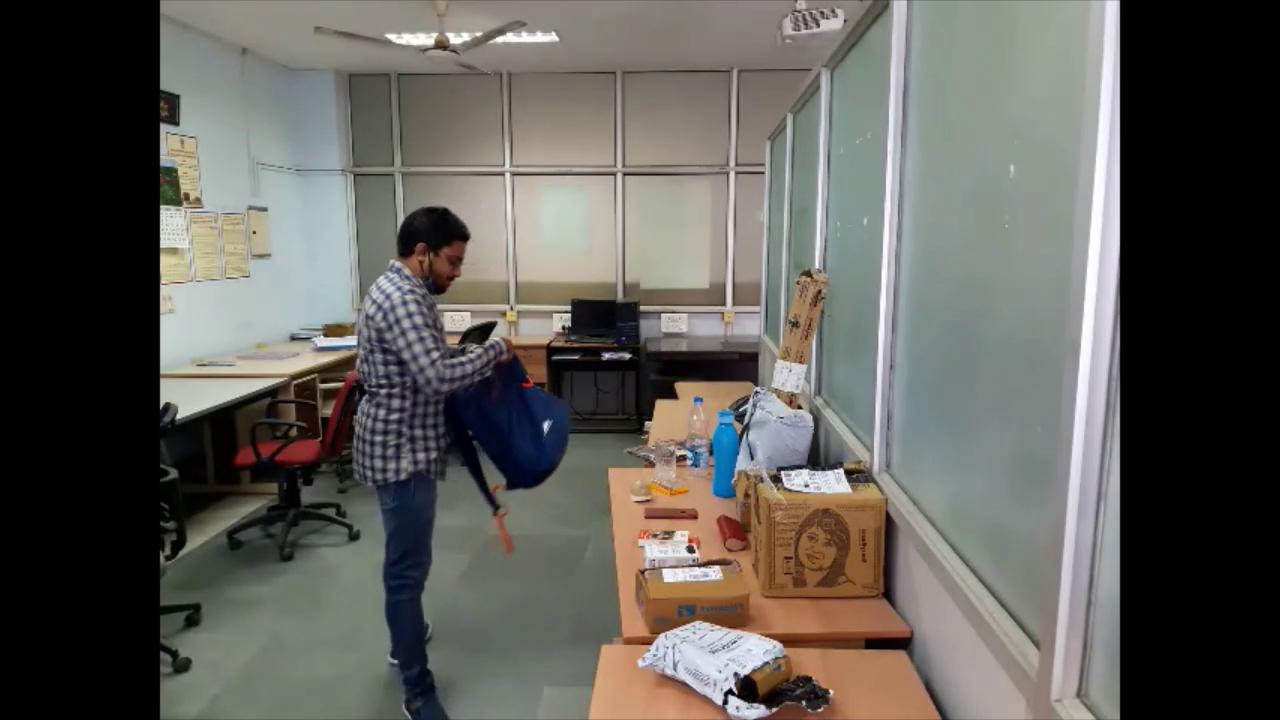shoplifting: (333, 196, 576, 716)
